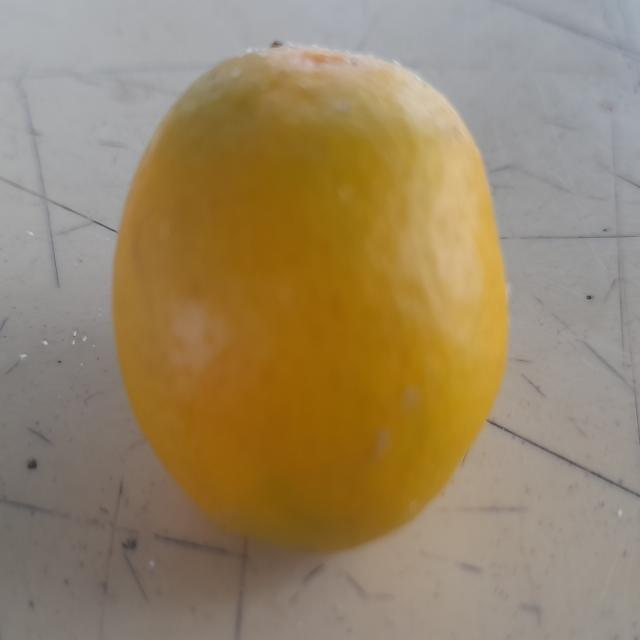greening: (115, 42, 530, 568)
